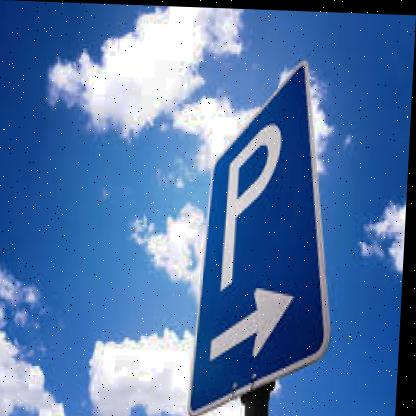Parking: (197, 93, 340, 381)
